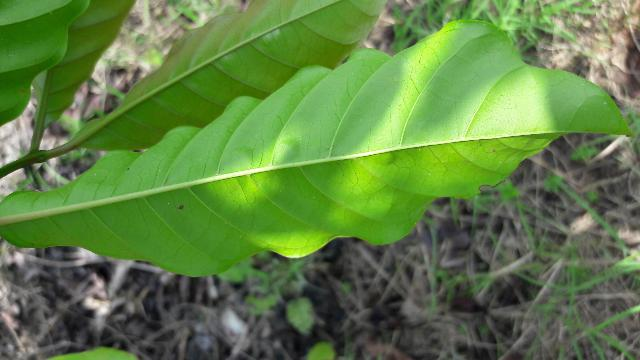healthy: (0, 24, 619, 274)
